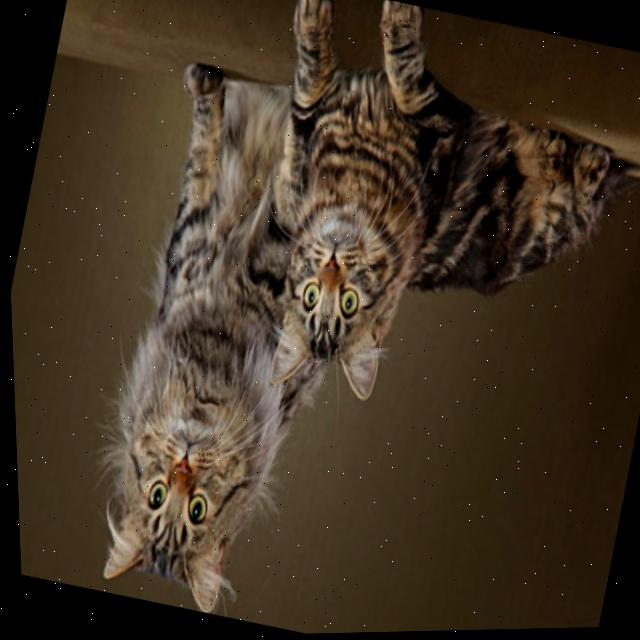American Bobtail: (207, 0, 640, 458), (58, 49, 394, 632)
